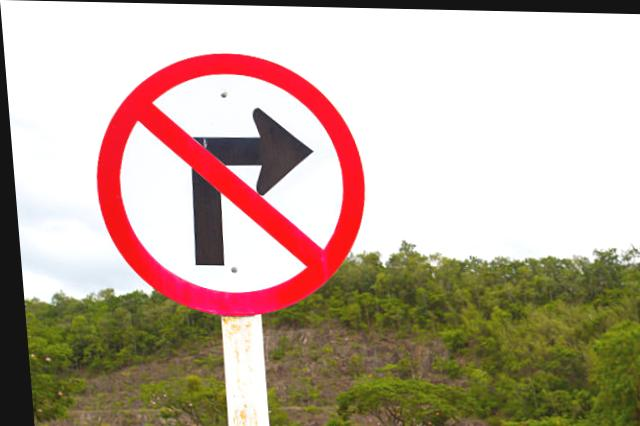not_turn_right: (86, 48, 373, 317)
